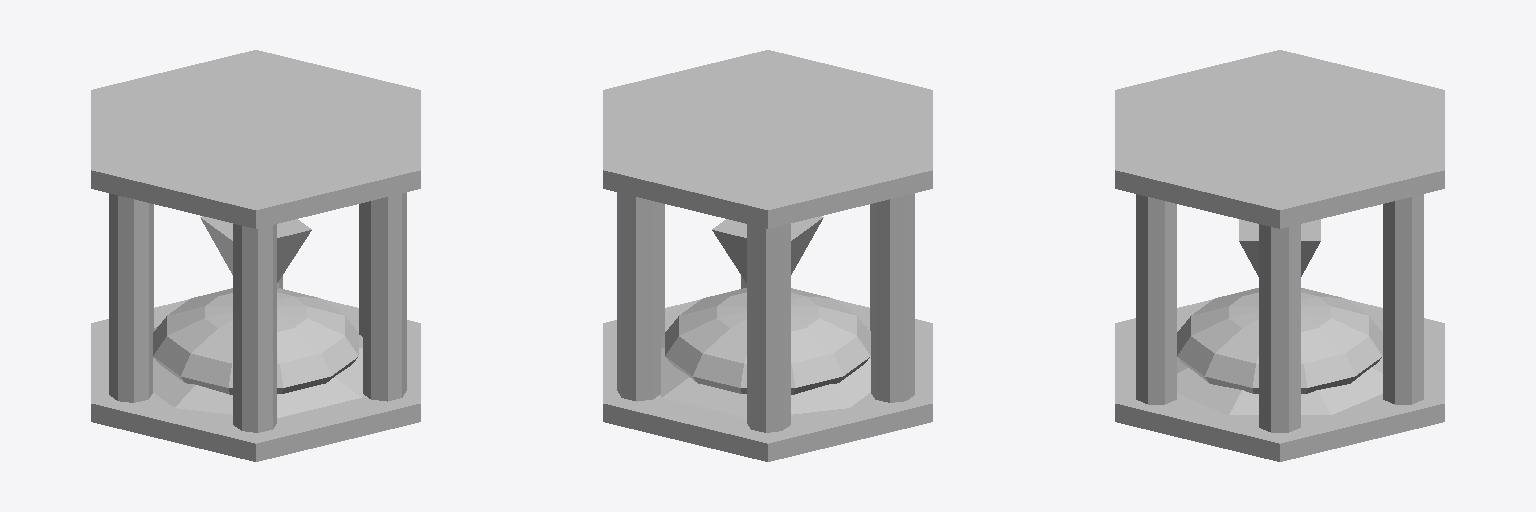
The model's file is Carrot farm.obj.
The picture shows the model from 3 angles: view 1: azimuth 30°, elevation 25°; view 2: azimuth 150°, elevation 25°; view 3: azimuth 270°, elevation 25°; orthographic projection.
Parts seen in each view (by area): view 1: cylinder, sphere, pyramid; view 2: cylinder, sphere, pyramid; view 3: cylinder, sphere, pyramid.
Part boxes in pixels (bbox=[...]): cylinder: bbox=[91, 50, 420, 461]; sphere: bbox=[153, 288, 363, 417]; pyramid: bbox=[200, 216, 311, 282]; cylinder: bbox=[603, 50, 932, 461]; sphere: bbox=[660, 288, 870, 417]; pyramid: bbox=[712, 216, 823, 282]; cylinder: bbox=[1115, 50, 1444, 461]; sphere: bbox=[1177, 288, 1382, 414]; pyramid: bbox=[1239, 219, 1320, 276].
Bounding box in the file's own units: 1.15 × 0.8438 × 1.